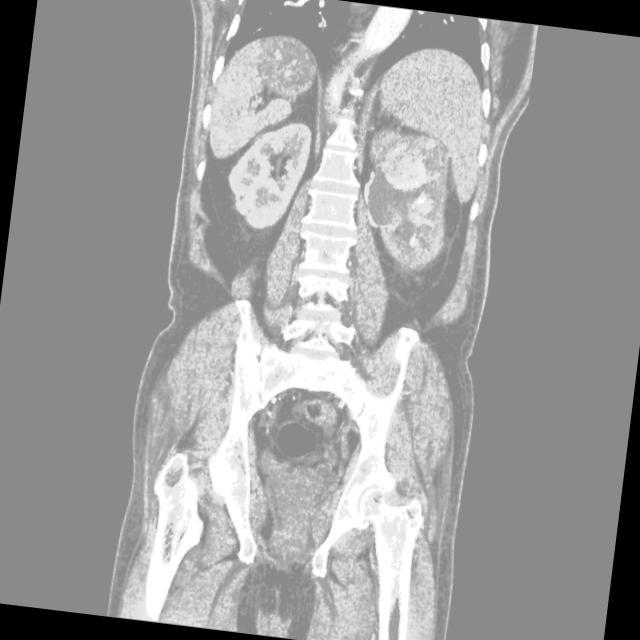TUMOR: (152, 118, 502, 276)
